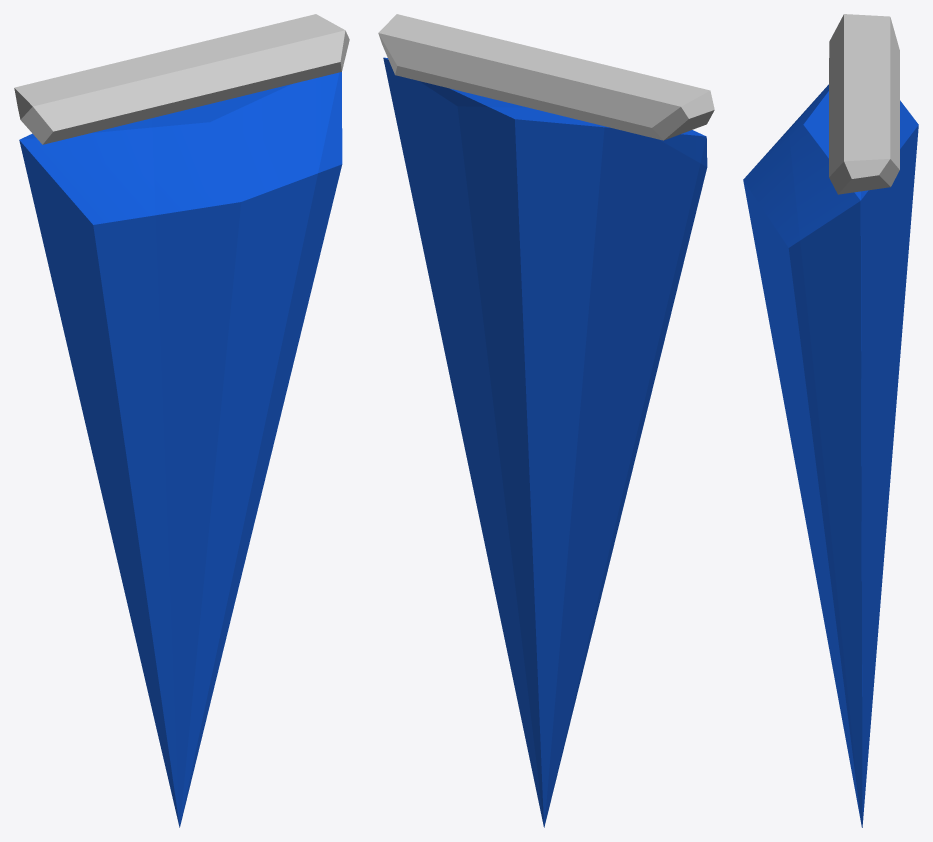
The model's file is Low Poly Blue Crystal .fbx.
3 renders of one model, left to right at view 1: azimuth 30°, elevation 25°; view 2: azimuth 150°, elevation 25°; view 3: azimuth 270°, elevation 25°, orthographic. The views are drawn at different scales.
Visible parts, largest first — view 1: pPyramid1, pCube1; view 2: pPyramid1, pCube1; view 3: pPyramid1, pCube1.
Boxes of the visible parts, x1,y1,x2,y2 form: pPyramid1: (19, 72, 342, 827); pCube1: (14, 14, 349, 144); pPyramid1: (383, 57, 707, 827); pCube1: (378, 14, 714, 140); pPyramid1: (743, 84, 918, 827); pCube1: (829, 14, 899, 194).
Bounding box in the file's own units: 2.73 × 6.08 × 1.31.
